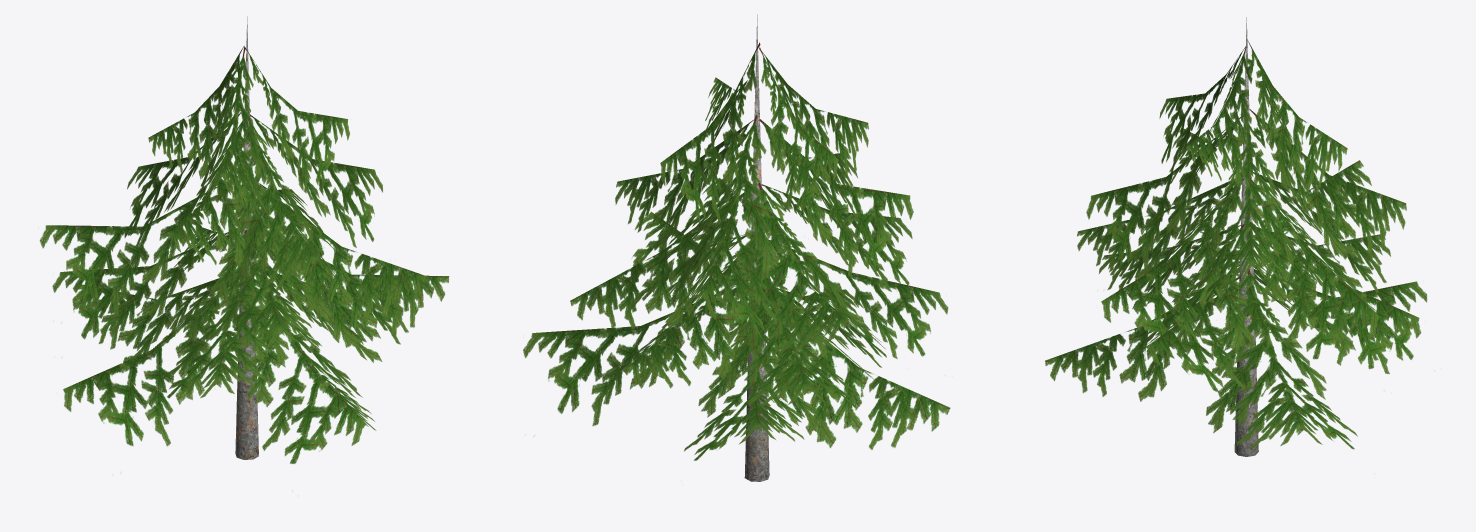
Rendered from stklib_pintree_c_high.glb.
3 views of the same model, side by side, from view 1: azimuth 30°, elevation 25°; view 2: azimuth 150°, elevation 25°; view 3: azimuth 270°, elevation 25° (orthographic). The views are drawn at different scales.
Parts seen in each view (by area): view 1: stklib_pinetree_c.png__, stktex_treebark_c.jpg__; view 2: stklib_pinetree_c.png__, stktex_treebark_c.jpg__; view 3: stklib_pinetree_c.png__, stktex_treebark_c.jpg__.
Boxes of the visible parts, x1,y1,x2,y2 form: stklib_pinetree_c.png__: (40, 46, 449, 463); stktex_treebark_c.jpg__: (235, 16, 258, 459); stklib_pinetree_c.png__: (523, 42, 950, 460); stktex_treebark_c.jpg__: (744, 14, 769, 481); stklib_pinetree_c.png__: (1045, 39, 1427, 450); stktex_treebark_c.jpg__: (1234, 17, 1258, 456).
Bounding box in the file's own units: 8.86 × 9.27 × 8.28.
Materials: 2 (2 with a texture image).
